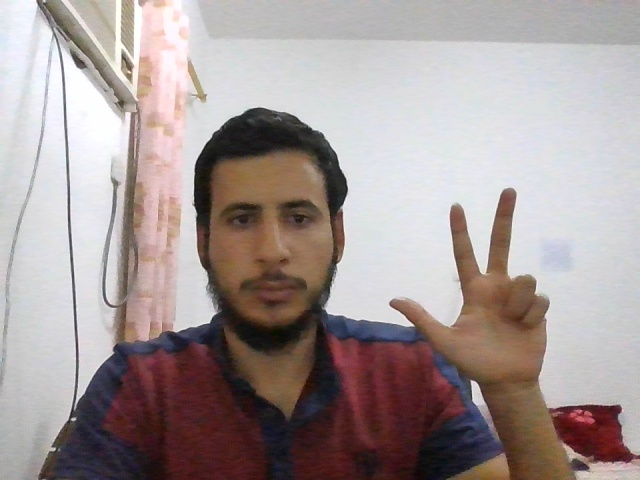Three: (389, 187, 552, 382)
